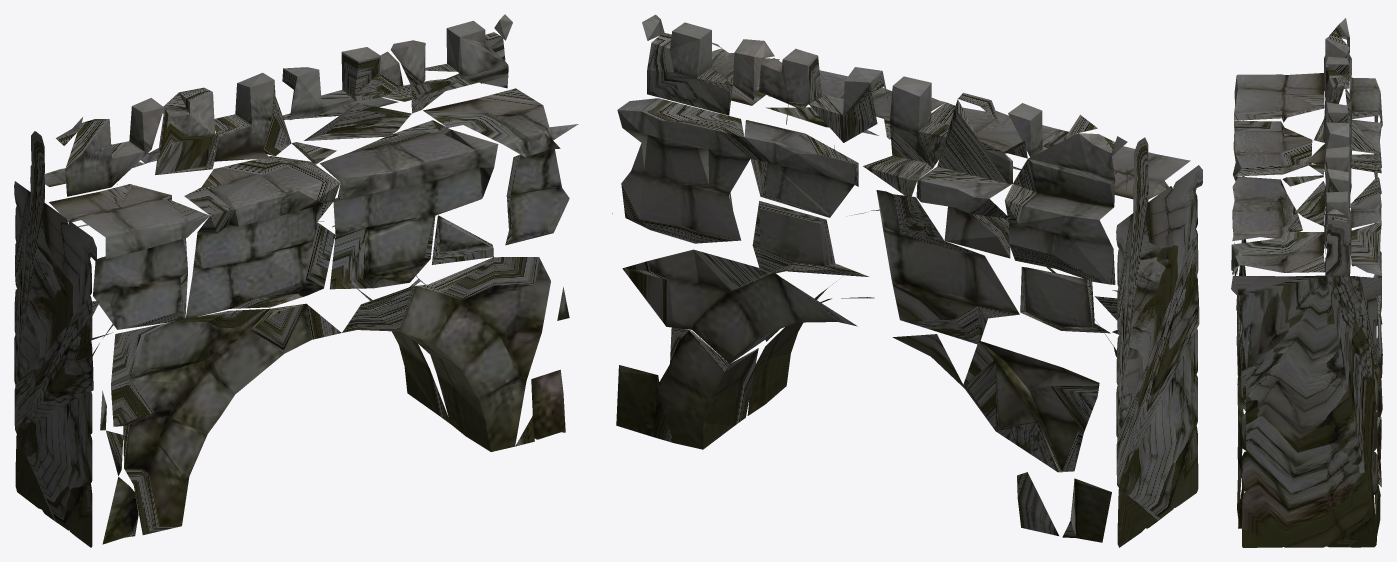
The model's file is bld_wall_watertunnel_a_LOD2.glb.
3 views of the same model, side by side, from view 1: azimuth 30°, elevation 25°; view 2: azimuth 150°, elevation 25°; view 3: azimuth 270°, elevation 25° (orthographic). The views are drawn at different scales.
Parts seen in each view (by area): view 1: geometry_0; view 2: geometry_0; view 3: geometry_0.
Boxes of the visible parts, <box> form: geometry_0: <box>14,14,578,547</box>; geometry_0: <box>612,14,1202,547</box>; geometry_0: <box>1231,18,1382,547</box>.
Size of the model in its own units: 8 by 6.01 by 2.5.
1 material, 1 textured.
